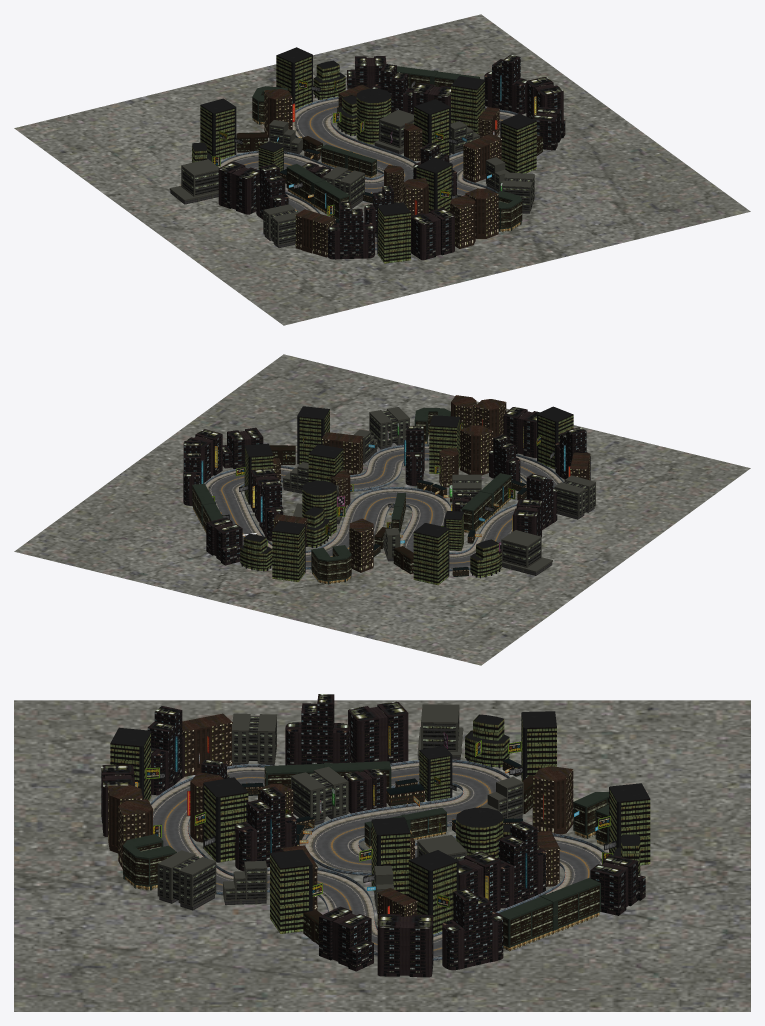
File: basictrack.glb
3 renders of one model, top to bottom at view 1: azimuth 30°, elevation 25°; view 2: azimuth 150°, elevation 25°; view 3: azimuth 270°, elevation 25°, orthographic. The views are drawn at different scales.
Parts seen in each view (by area): view 1: Level, NewTrack, building3_1[main].002, building3_1[main].005, building3_2[main].001, budynek1[main].005, budynek1[main].003, budynek1[main].006, building3_2[main].002, budynek1[main], budynki6_1[main].001, budynki5_1[main].001 (+36 smaller); view 2: Level, NewTrack, budynek1[main].006, budynek1[main], budynki5_1[main].001, budynki6_1[main].001, building2_3[main] 1.002, budynek1[main].003, budynki5_3[main], building3[main], budynek1[main].005, building3_2[main].001 (+29 smaller); view 3: Level, NewTrack, budynki6_1[main].002, building3_1[main].005, building3_1[main].004, building3_2[main].004, building3_1[main].001, building3_2[main].002, building3_1[main], budynek1[main].005, budynek1[main].007, budynek1[main].002 (+34 smaller).
Boxes of the visible parts, bbox=[...] form: Level: bbox=[14, 14, 750, 325]; NewTrack: bbox=[218, 96, 518, 250]; building3_1[main].002: bbox=[327, 202, 374, 259]; building3_1[main].005: bbox=[484, 54, 527, 114]; building3_2[main].001: bbox=[411, 208, 454, 260]; budynek1[main].005: bbox=[500, 114, 536, 173]; budynek1[main].003: bbox=[377, 202, 410, 263]; budynek1[main].006: bbox=[200, 98, 236, 159]; building3_2[main].002: bbox=[218, 161, 259, 214]; budynek1[main]: bbox=[276, 47, 312, 109]; budynki6_1[main].001: bbox=[286, 164, 349, 219]; budynki5_1[main].001: bbox=[169, 159, 218, 204]; Level: bbox=[14, 354, 750, 665]; NewTrack: bbox=[205, 444, 563, 571]; budynek1[main].006: bbox=[413, 523, 449, 585]; budynek1[main]: bbox=[272, 521, 305, 581]; budynki5_1[main].001: bbox=[501, 530, 552, 575]; budynki6_1[main].001: bbox=[461, 473, 511, 533]; building2_3[main] 1.002: bbox=[460, 425, 493, 475]; budynek1[main].003: bbox=[537, 406, 573, 469]; budynki5_3[main]: bbox=[554, 475, 595, 519]; building3[main]: bbox=[206, 517, 242, 565]; budynek1[main].005: bbox=[297, 406, 329, 464]; building3_2[main].001: bbox=[503, 407, 539, 458]; Level: bbox=[14, 700, 750, 1011]; NewTrack: bbox=[150, 759, 605, 960]; budynki6_1[main].002: bbox=[499, 878, 600, 951]; building3_1[main].005: bbox=[442, 888, 503, 970]; building3_1[main].004: bbox=[285, 694, 350, 765]; building3_2[main].004: bbox=[377, 914, 433, 977]; building3_1[main].001: bbox=[235, 786, 296, 871]; building3_2[main].002: bbox=[348, 701, 408, 763]; building3_1[main]: bbox=[498, 821, 545, 908]; budynek1[main].005: bbox=[270, 849, 312, 933]; budynek1[main].007: bbox=[203, 777, 248, 862]; budynek1[main].002: bbox=[408, 850, 458, 933].
Bounding box in the file's own units: 559 × 60.45 × 559.
Materials: 13 (13 with a texture image).
